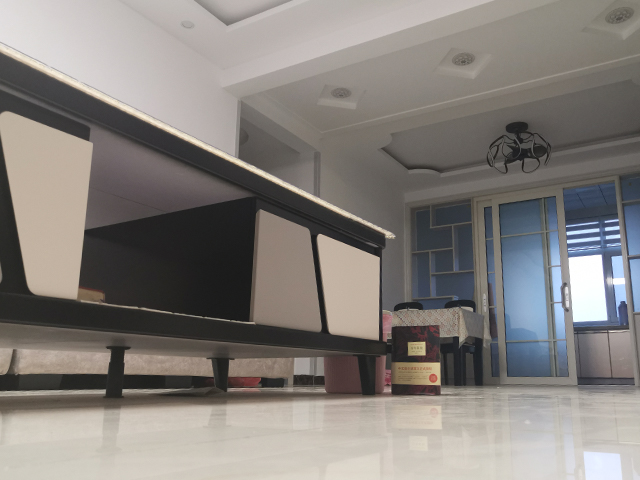book: (390, 324, 442, 396)
cabinet: (570, 324, 634, 385)
stool: (444, 298, 483, 387)
table: (1, 41, 399, 399), (383, 308, 486, 388)
trashcan: (322, 308, 393, 395)
